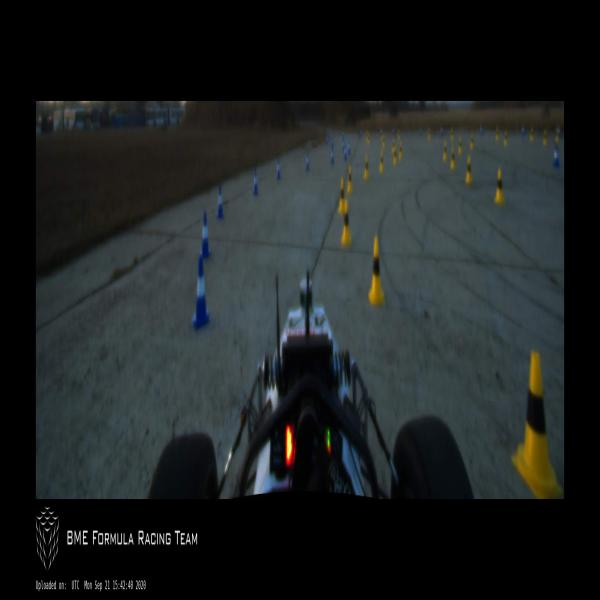blue_cone: (192, 261, 210, 329), (199, 210, 211, 260), (216, 187, 225, 220), (552, 144, 560, 168), (253, 169, 258, 195), (277, 159, 281, 179), (305, 153, 309, 171), (331, 147, 334, 164), (342, 129, 345, 141), (344, 144, 346, 160), (480, 125, 483, 135), (348, 140, 350, 154), (419, 126, 422, 134), (522, 124, 524, 136), (326, 135, 328, 145), (360, 128, 362, 138), (441, 126, 443, 136), (393, 127, 395, 135)
yellow_cone: (511, 351, 564, 498), (367, 234, 386, 304), (340, 198, 352, 244), (494, 169, 505, 203), (338, 177, 347, 212), (464, 155, 473, 185), (347, 166, 353, 193), (450, 147, 456, 170), (364, 155, 369, 180), (379, 152, 384, 173), (443, 144, 448, 162), (393, 146, 397, 166), (398, 141, 402, 159), (495, 124, 499, 142), (458, 138, 462, 155), (470, 133, 474, 150), (504, 130, 508, 147), (543, 130, 547, 146), (530, 125, 534, 141), (451, 127, 454, 142), (392, 139, 395, 153), (383, 136, 386, 150), (555, 128, 558, 142), (367, 133, 370, 145), (381, 131, 384, 141), (428, 127, 430, 140), (398, 128, 400, 140), (366, 131, 368, 142)
